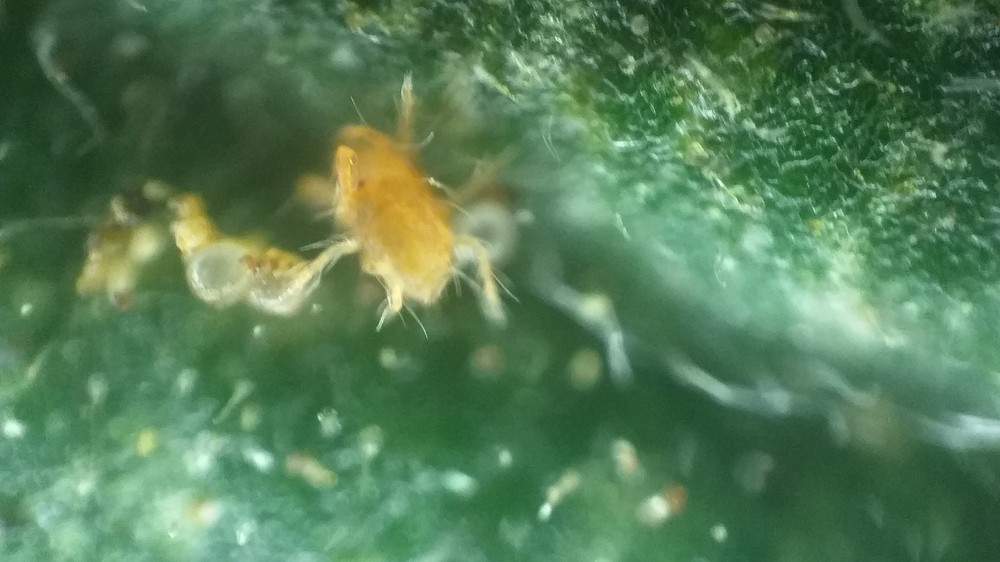Aracnido Rojo: (255, 71, 557, 348)
